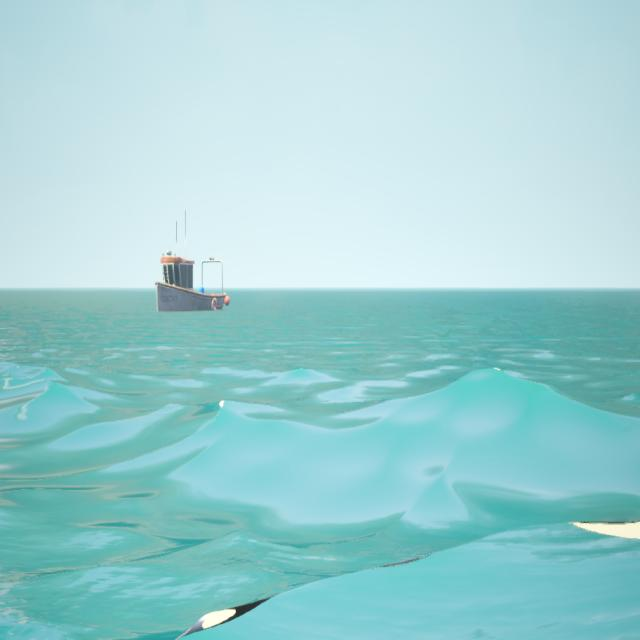ship: (150, 205, 235, 320)
